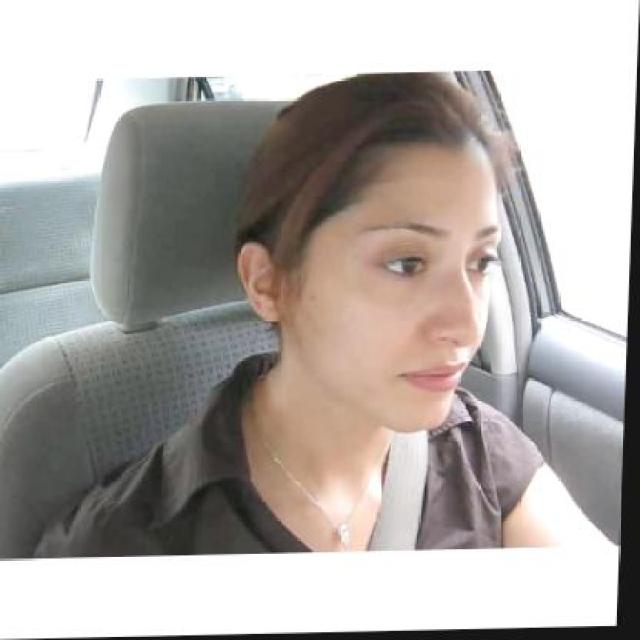attentif: (237, 72, 506, 434)
